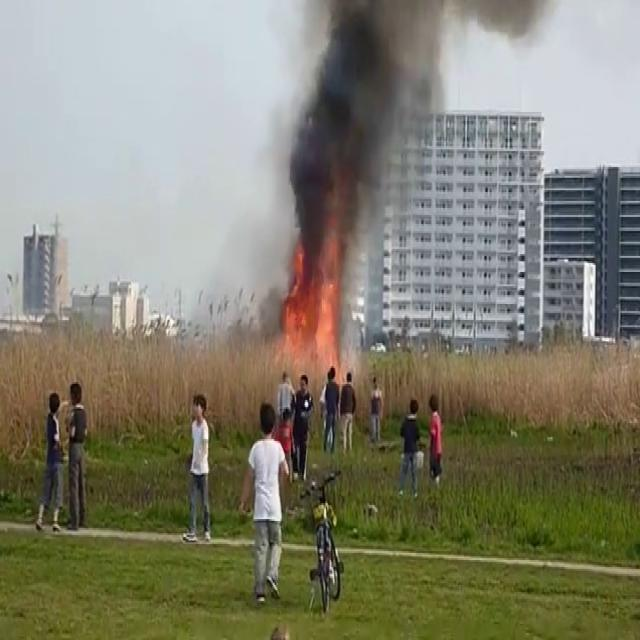Fire: (270, 245, 348, 379)
Smoke: (263, 0, 427, 272)
